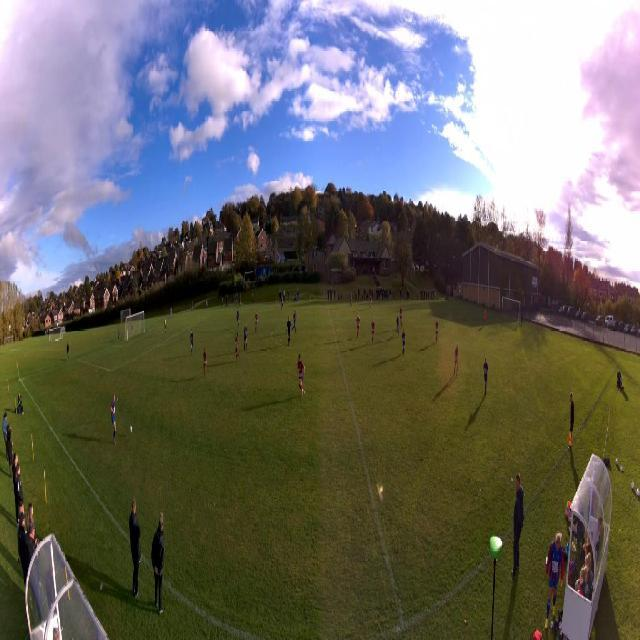ball: (129, 425, 132, 433)
player: (111, 393, 118, 445), (297, 353, 305, 395), (483, 357, 488, 396), (286, 316, 292, 346), (454, 342, 458, 378), (235, 332, 240, 360), (292, 310, 297, 334), (203, 347, 207, 376), (243, 323, 247, 351), (371, 318, 375, 344), (356, 313, 360, 339), (402, 329, 406, 354), (435, 318, 439, 343), (395, 312, 399, 337), (399, 306, 403, 328), (254, 312, 258, 333), (236, 307, 240, 328), (190, 330, 193, 357), (484, 307, 487, 325), (164, 317, 167, 335), (369, 294, 372, 310), (350, 292, 353, 308), (281, 297, 284, 312)
